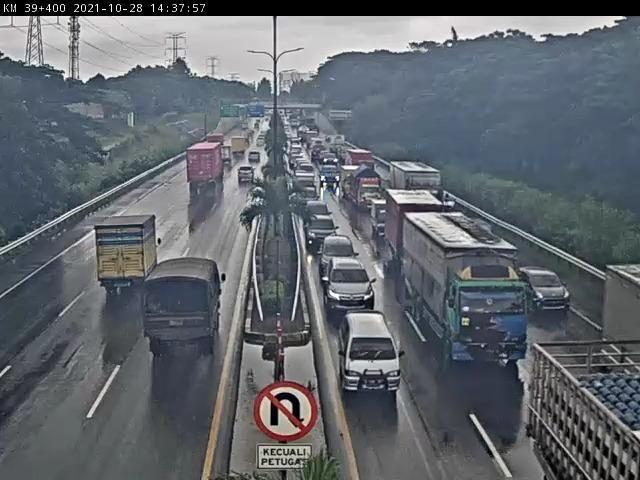bus: (132, 251, 234, 397), (339, 306, 403, 396)
car: (320, 258, 391, 304), (514, 263, 573, 309), (317, 230, 361, 264), (306, 214, 345, 248), (302, 199, 337, 221), (230, 171, 260, 191), (247, 149, 267, 166)
truck: (398, 206, 540, 356), (517, 326, 640, 480), (76, 212, 167, 328), (169, 126, 231, 214)
